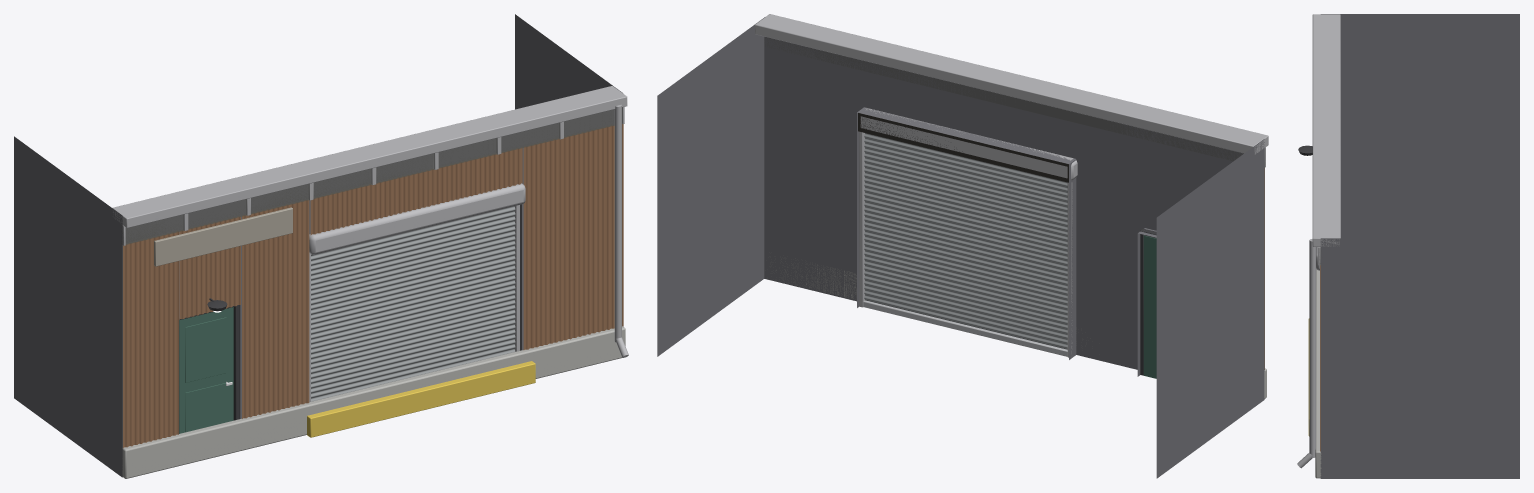
File: warehouse_8a.glb
3 renders of one model, left to right at view 1: azimuth 30°, elevation 25°; view 2: azimuth 150°, elevation 25°; view 3: azimuth 270°, elevation 25°, orthographic. The views are drawn at different scales.
Parts seen in each view (by area): view 1: warehouse_8a; view 2: warehouse_8a; view 3: warehouse_8a.
Part boxes in pixels (x1=…): warehouse_8a: x1=14, y1=14, x2=628, y2=478; warehouse_8a: x1=657, y1=14, x2=1268, y2=478; warehouse_8a: x1=1297, y1=14, x2=1519, y2=478.
Size of the model in its own units: 8 by 4 by 3.36.
